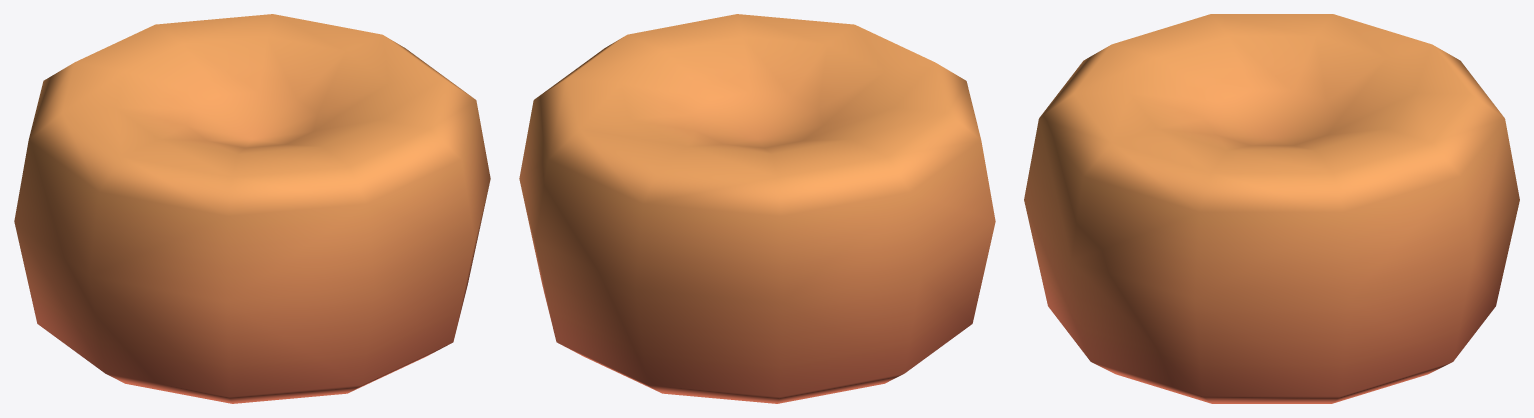
File: Furniture_Sofa_06.fbx
3 renders of one model, left to right at view 1: azimuth 30°, elevation 25°; view 2: azimuth 150°, elevation 25°; view 3: azimuth 270°, elevation 25°, orthographic.
Parts seen in each view (by area): view 1: Furniture_Sofa_06; view 2: Furniture_Sofa_06; view 3: Furniture_Sofa_06.
Part boxes in pixels (x1,y1,x2,y2): Furniture_Sofa_06: [14, 14, 490, 403]; Furniture_Sofa_06: [519, 14, 995, 403]; Furniture_Sofa_06: [1024, 14, 1519, 403].
Bounding box in the file's own units: 118 × 64.31 × 124.
